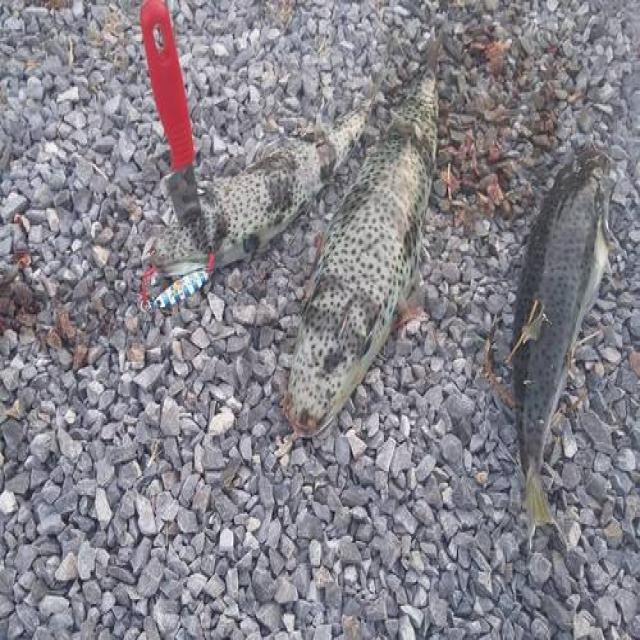Balik: (283, 41, 439, 436), (150, 99, 372, 276), (512, 147, 611, 534)
